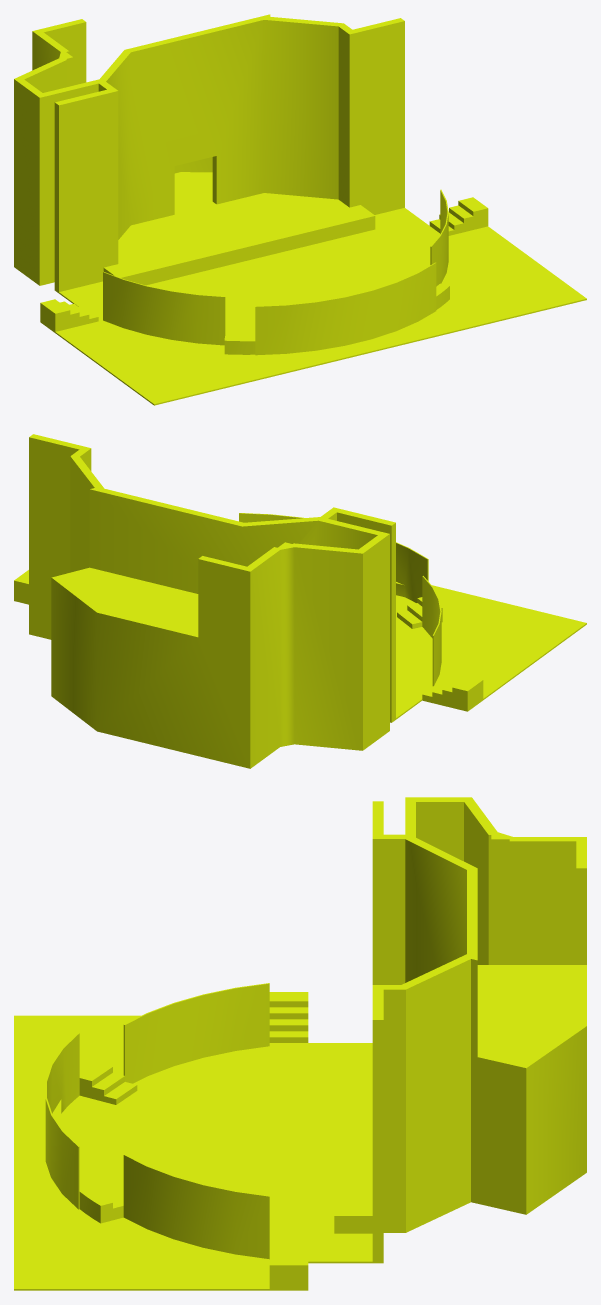
File: teater.obj
The picture shows the model from 3 angles, top to bottom: view 1: azimuth 30°, elevation 25°; view 2: azimuth 150°, elevation 25°; view 3: azimuth 270°, elevation 25°; orthographic projection. The views are drawn at different scales.
Parts seen in each view (by area): view 1: Object_2; view 2: Object_2; view 3: Object_2.
Boxes of the visible parts, bbox=[...] form: Object_2: bbox=[14, 14, 586, 405]; Object_2: bbox=[14, 434, 586, 768]; Object_2: bbox=[14, 797, 586, 1290].
Size of the model in its own units: 19.94 by 8.28 by 17.67.
